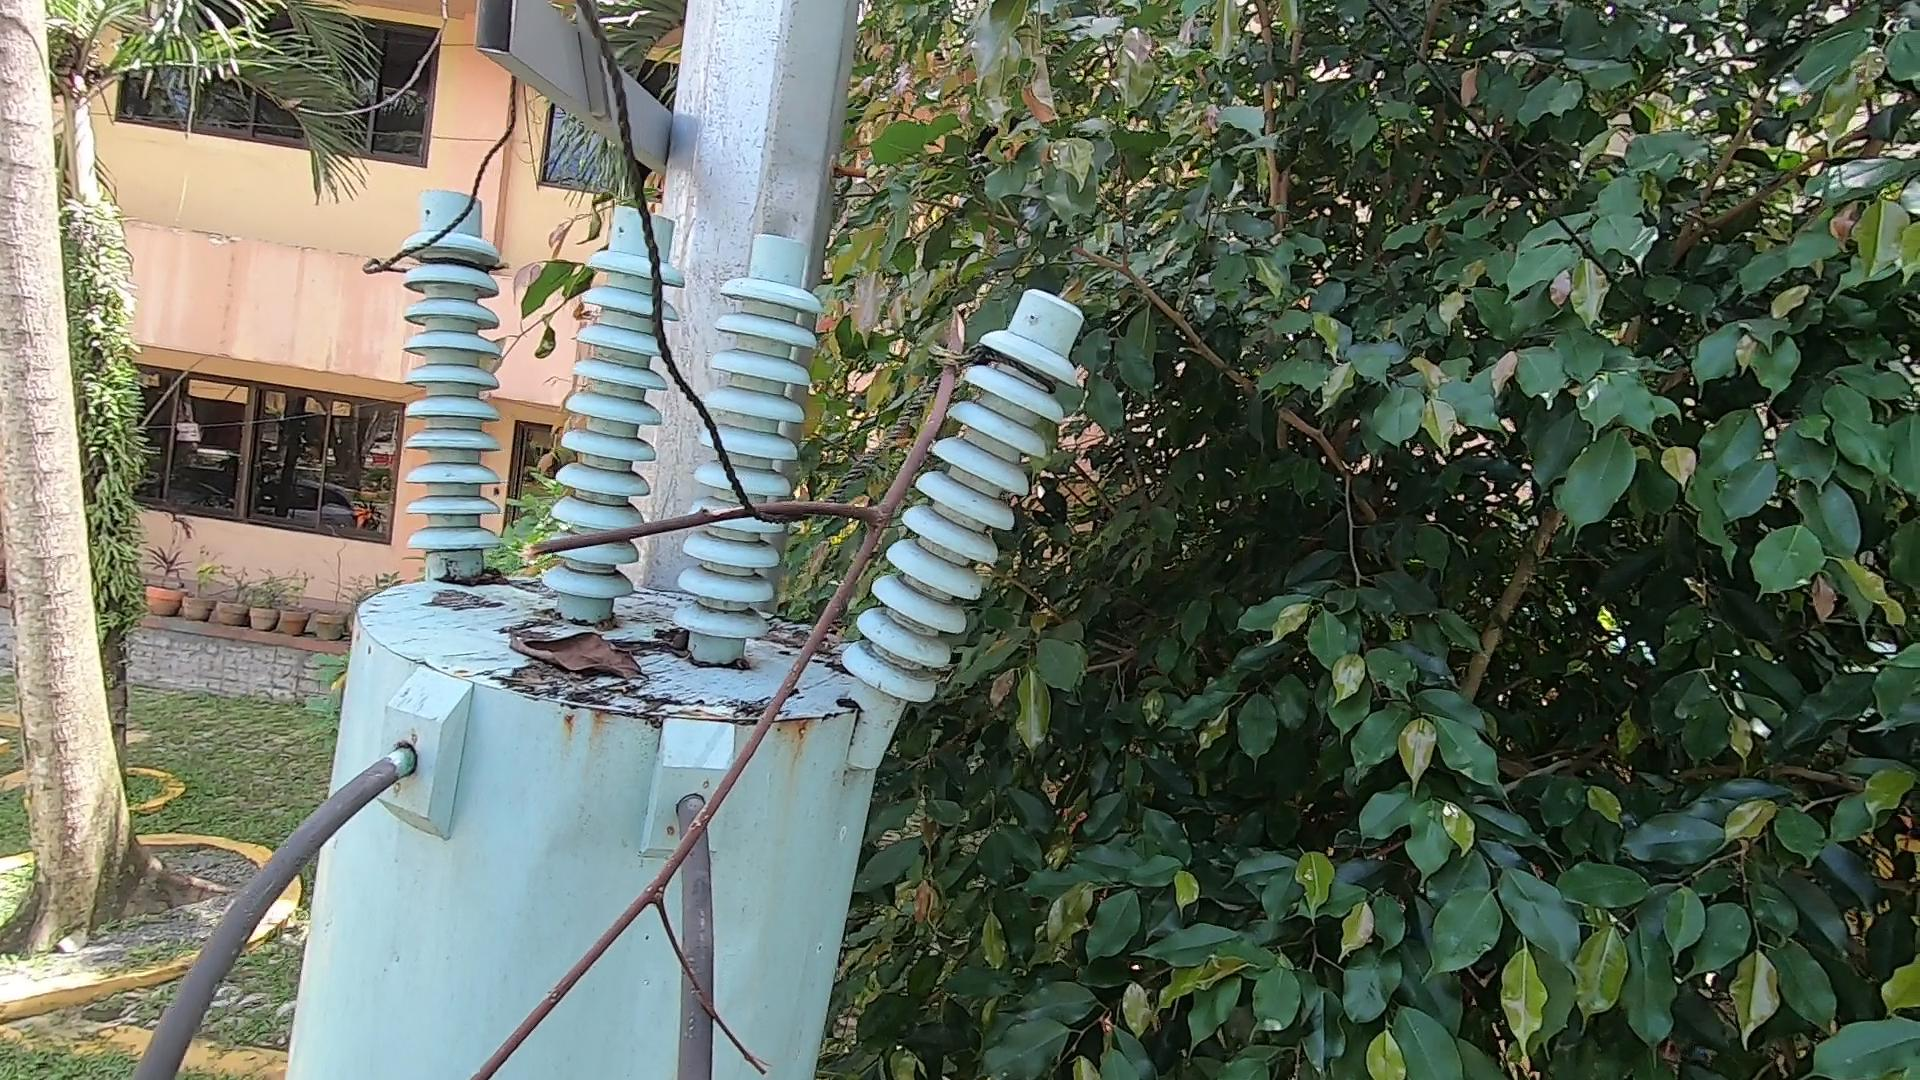leaf: (504, 605, 647, 696)
tree branch: (419, 291, 996, 1080)
